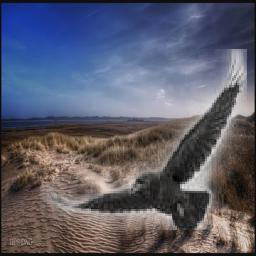Crow: (41, 50, 248, 231)
